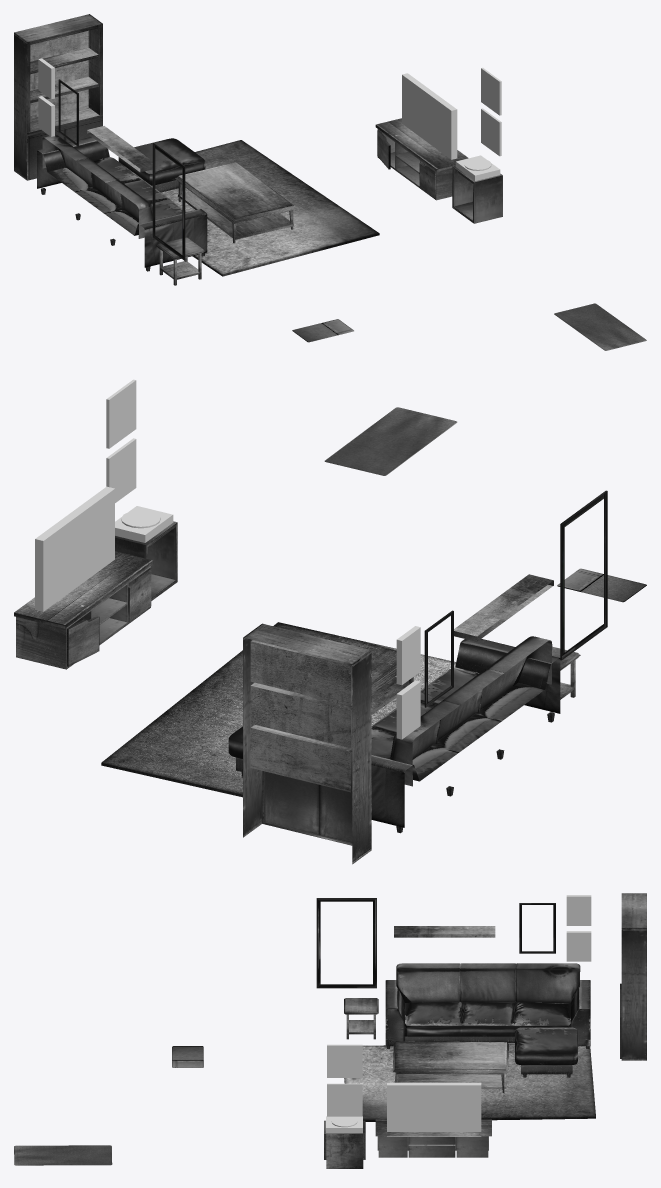
File: apartment_furniture.fbx
The picture shows the model from 3 angles, top to bottom: view 1: azimuth 30°, elevation 25°; view 2: azimuth 150°, elevation 25°; view 3: azimuth 270°, elevation 25°; orthographic projection. The views are drawn at different scales.
Parts seen in each view (by area): view 1: bookshelf, rug, couch, coffee_table, Box031, Plane007, Box032, entry_mat, solo_cushion, bedside_table, shelf_1, frame_1 (+6 smaller); view 2: bookshelf, couch, rug, Plane007, Box031, entry_mat, shelf_1, Box032, coffee_table, frame_1, Box035, kitchen_mat (+7 smaller); view 3: couch, rug, coffee_table, Box031, bookshelf, Plane007, solo_cushion, entry_mat, Box032, frame_1, shelf_1, Box034 (+7 smaller).
Part boxes in pixels (<box>): bookshelf: <box>14,14,102,180</box>; rug: <box>161,140,379,276</box>; couch: <box>37,134,207,271</box>; coffee_table: <box>175,162,296,243</box>; Box031: <box>402,73,457,159</box>; Plane007: <box>375,118,468,200</box>; Box032: <box>452,166,502,223</box>; entry_mat: <box>554,303,646,350</box>; solo_cushion: <box>118,138,205,192</box>; bedside_table: <box>156,237,204,285</box>; shelf_1: <box>87,126,157,172</box>; frame_1: <box>152,143,185,260</box>; bookshelf: <box>243,623,371,864</box>; couch: <box>371,636,560,833</box>; rug: <box>101,622,456,797</box>; Plane007: <box>14,551,153,669</box>; Box031: <box>35,486,114,611</box>; entry_mat: <box>324,407,457,475</box>; shelf_1: <box>454,574,553,641</box>; Box032: <box>115,521,177,600</box>; coffee_table: <box>239,634,413,714</box>; frame_1: <box>560,490,607,660</box>; Box035: <box>106,379,136,448</box>; kitchen_mat: <box>557,568,646,602</box>; couch: <box>385,963,590,1048</box>; rug: <box>344,1043,595,1121</box>; coffee_table: <box>392,1041,508,1092</box>; Box031: <box>387,1082,481,1136</box>; bookshelf: <box>620,893,646,1060</box>; Plane007: <box>375,1119,491,1157</box>; solo_cushion: <box>515,1027,577,1077</box>; entry_mat: <box>14,1145,112,1165</box>; Box032: <box>324,1120,365,1168</box>; frame_1: <box>316,898,376,988</box>; shelf_1: <box>394,926,495,937</box>; Box034: <box>327,1083,362,1116</box>.
Bounding box in the file's own units: 771 × 313 × 1361.
